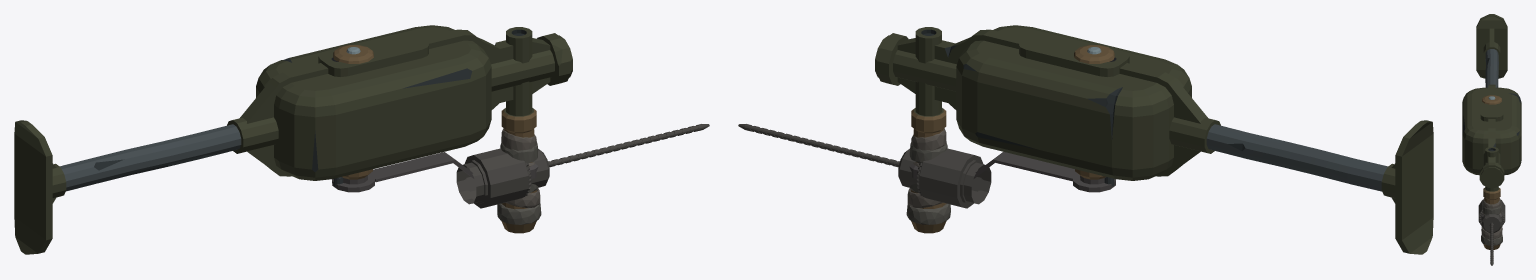
File: SM_HAND_DRILL.glb
3 renders of one model, left to right at view 1: azimuth 30°, elevation 25°; view 2: azimuth 150°, elevation 25°; view 3: azimuth 270°, elevation 25°, orthographic. The views are drawn at different scales.
Parts seen in each view (by area): view 1: SM_HAND_DRILL, DRILL, Handle; view 2: SM_HAND_DRILL, DRILL, Handle; view 3: SM_HAND_DRILL, DRILL, Handle.
Part boxes in pixels (x1,y1,x2,y2): SM_HAND_DRILL: (14, 25, 572, 254); DRILL: (456, 124, 709, 208); Handle: (332, 45, 538, 192); SM_HAND_DRILL: (875, 25, 1433, 254); DRILL: (738, 124, 991, 208); Handle: (909, 45, 1115, 192); SM_HAND_DRILL: (1462, 14, 1521, 249); DRILL: (1478, 199, 1505, 265); Handle: (1481, 95, 1502, 220).
Bounding box in the file's own units: 0.7664 × 0.2416 × 0.1149.
1 material, 1 textured.
